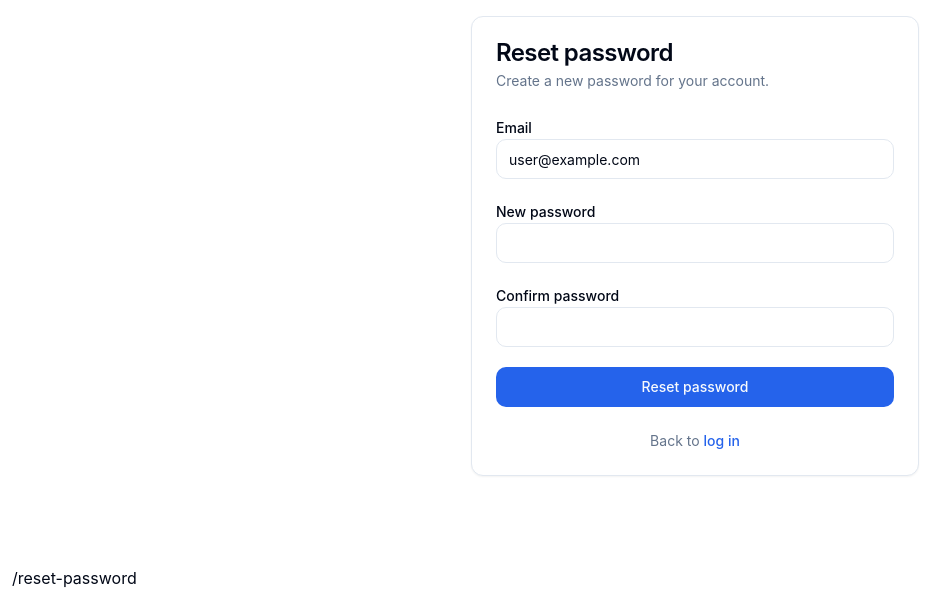
Test: ResetPasswordPage › submits token and email from the reset link
The image size is (936, 605).
Expected: the field labelled "Email" holds "user@example.com", [496,139,894,179]
Type "password123" into the password field labelled "New password" at (695,243), box [496,223,894,263]
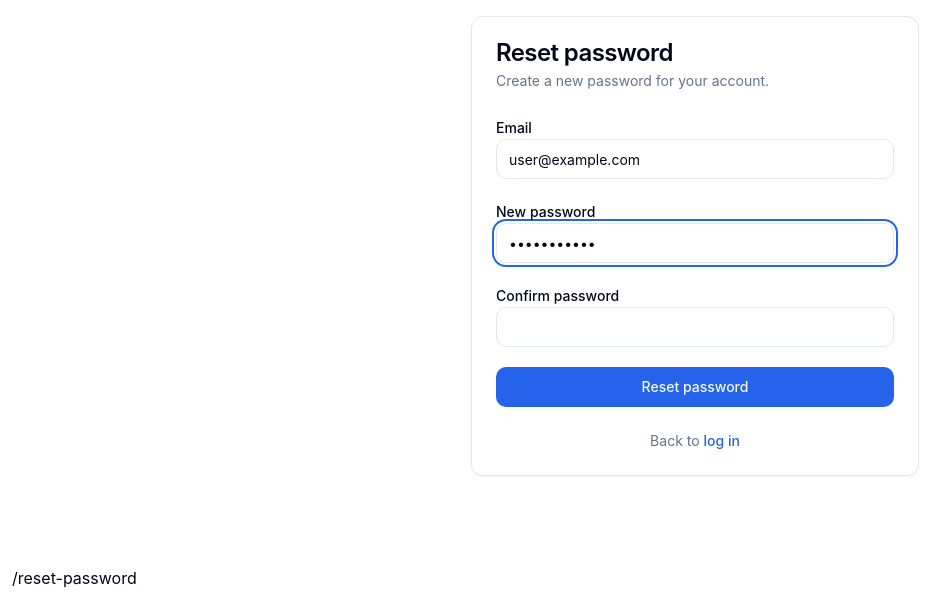
Type "password123" into the password field labelled "Confirm password" at (695,327), box [496,307,894,347]
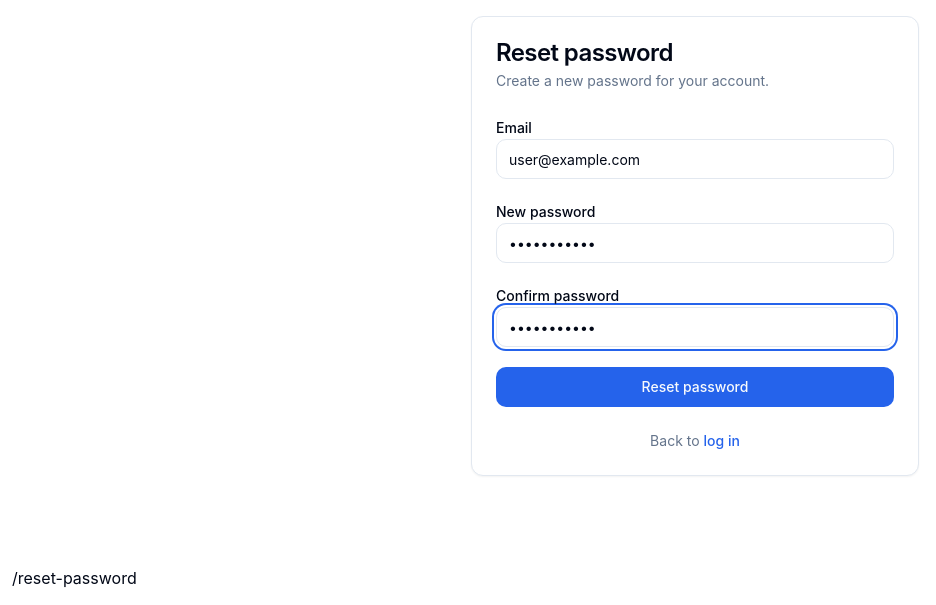
Click the button "Reset password" at (695,387), box [496,367,894,407]
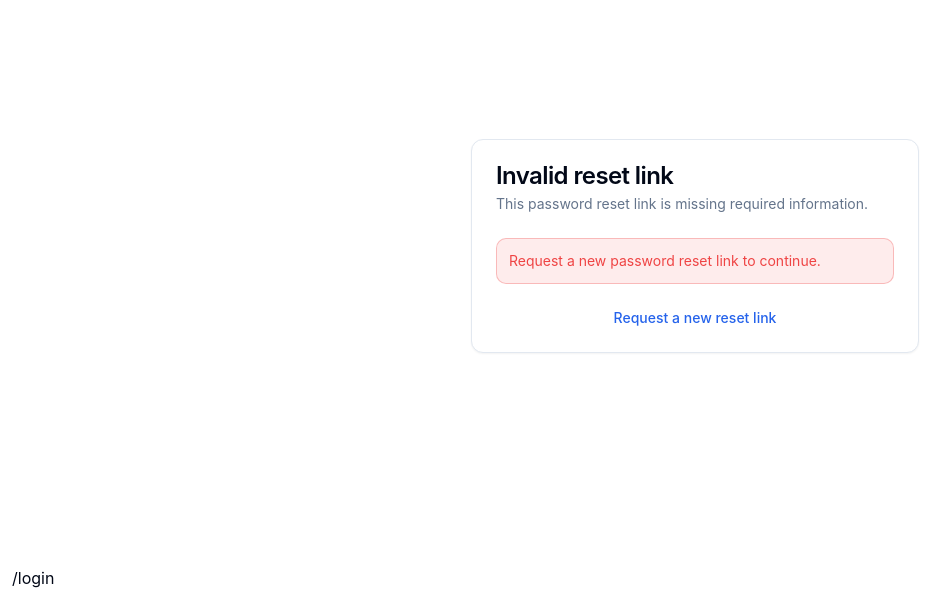
Expected: the text with test id "location" reads "/login", [12,568,54,588]
